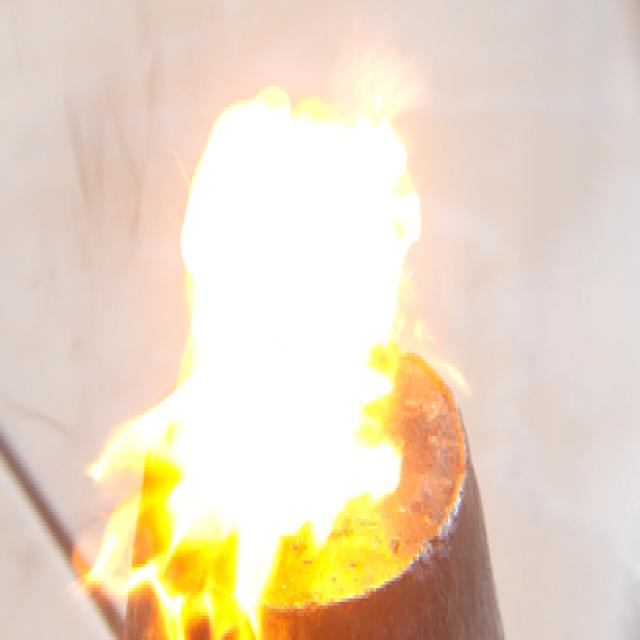explosion: (73, 33, 507, 640)
